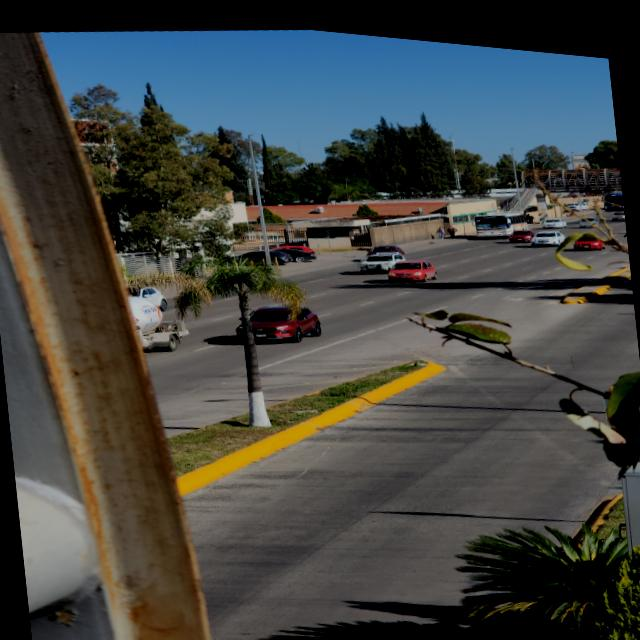Auto: (131, 291, 185, 355), (355, 233, 408, 269), (386, 245, 438, 279), (274, 235, 318, 261), (572, 219, 607, 242), (530, 216, 564, 239), (508, 215, 537, 236), (544, 205, 568, 219)
